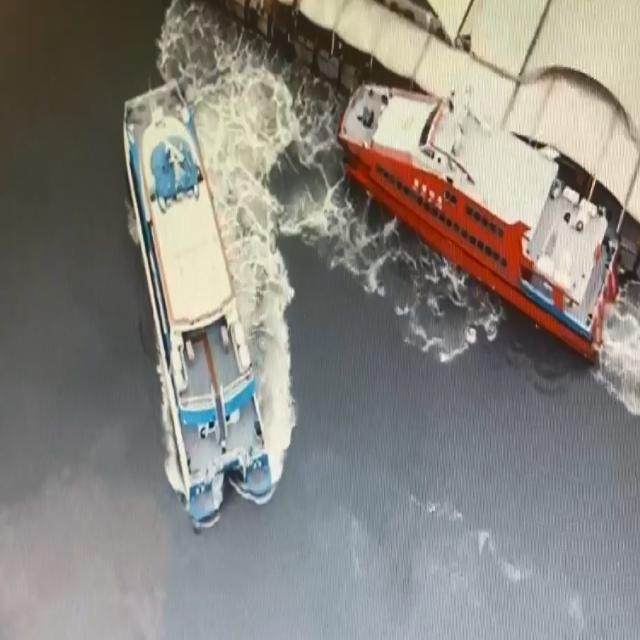passenger ship: (334, 80, 620, 365), (122, 80, 274, 532)
